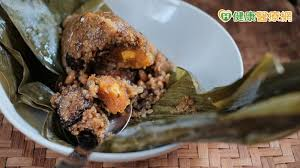zongzi: (51, 11, 173, 142)
